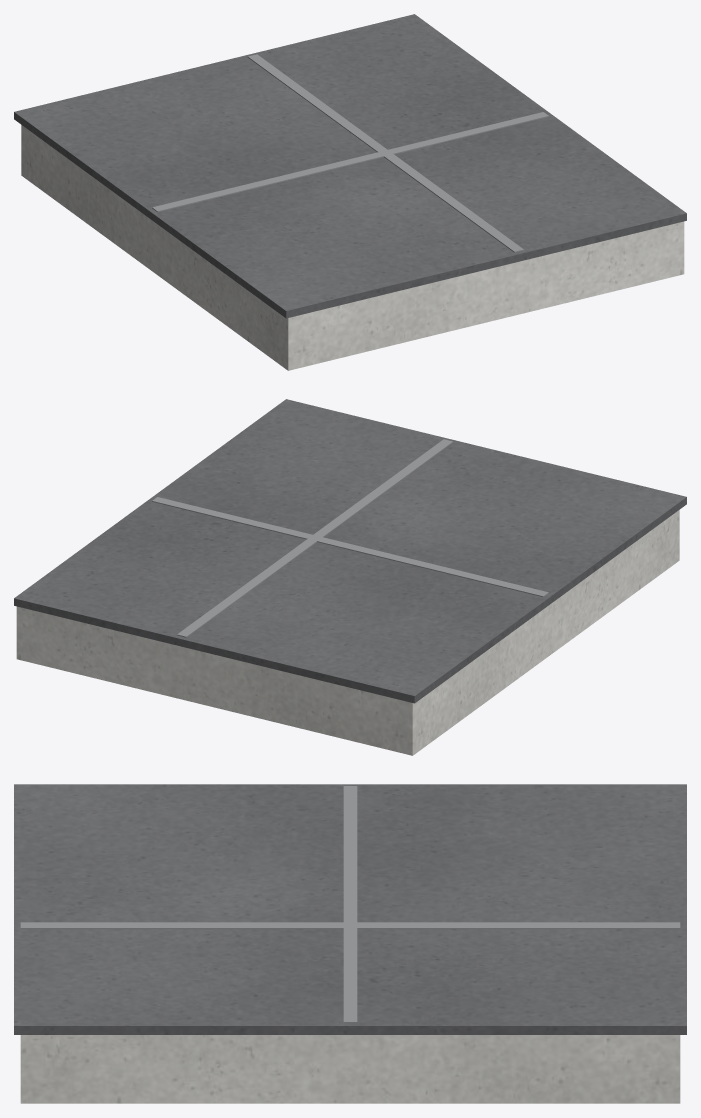
File: floor_membrane_r_e0_30_0_0.glb
3 views of the same model, one above another, from view 1: azimuth 30°, elevation 25°; view 2: azimuth 150°, elevation 25°; view 3: azimuth 270°, elevation 25° (orthographic). The views are drawn at different scales.
Parts seen in each view (by area): view 1: floor_membrane_r_e0_30_0_0_membrane, floor_membrane_r_e0_30_0_0_plaster, floor_membrane_r_e0_30_0_0_seam; view 2: floor_membrane_r_e0_30_0_0_membrane, floor_membrane_r_e0_30_0_0_plaster, floor_membrane_r_e0_30_0_0_seam; view 3: floor_membrane_r_e0_30_0_0_membrane, floor_membrane_r_e0_30_0_0_plaster, floor_membrane_r_e0_30_0_0_seam.
Part boxes in pixels (x1,y1,x2,y2): floor_membrane_r_e0_30_0_0_membrane: (14, 14, 686, 318); floor_membrane_r_e0_30_0_0_plaster: (21, 125, 684, 370); floor_membrane_r_e0_30_0_0_seam: (152, 54, 548, 252); floor_membrane_r_e0_30_0_0_membrane: (14, 399, 686, 703); floor_membrane_r_e0_30_0_0_plaster: (16, 510, 679, 755); floor_membrane_r_e0_30_0_0_seam: (152, 439, 548, 637); floor_membrane_r_e0_30_0_0_membrane: (14, 784, 686, 1034); floor_membrane_r_e0_30_0_0_plaster: (20, 1035, 680, 1103); floor_membrane_r_e0_30_0_0_seam: (20, 786, 680, 1022).
Size of the model in its own units: 1.7 by 0.259 by 2.
Materials: 3 (2 with a texture image).
